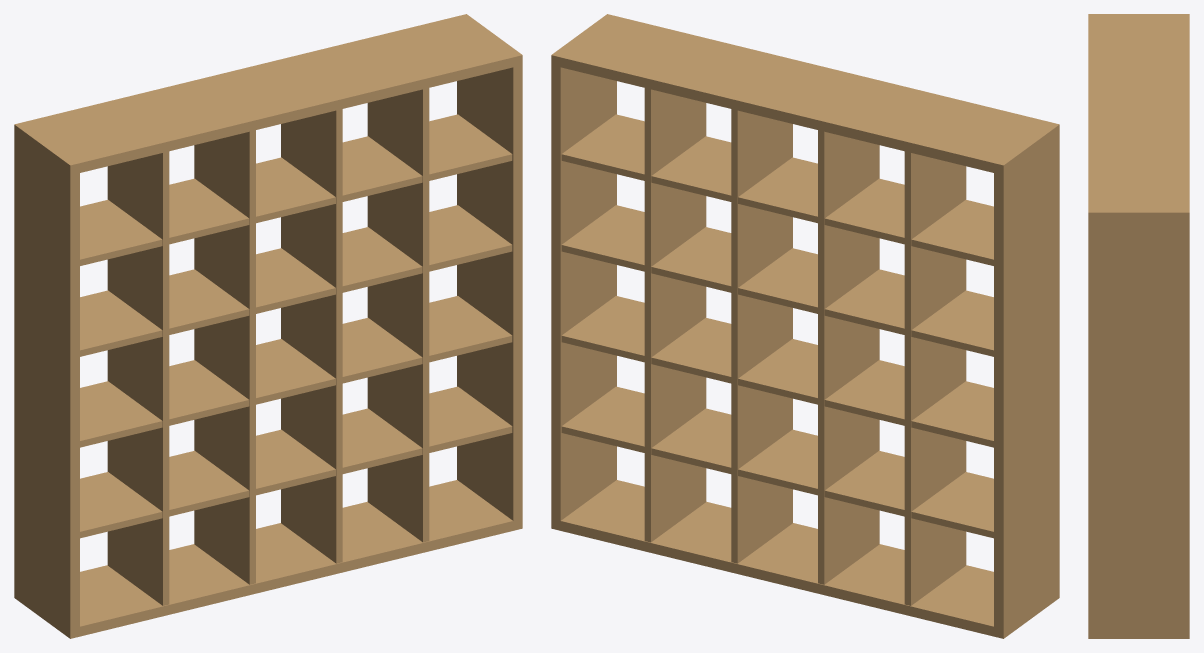
Rendered from stand_book.glb.
3 views of the same model, side by side, from view 1: azimuth 30°, elevation 25°; view 2: azimuth 150°, elevation 25°; view 3: azimuth 270°, elevation 25° (orthographic). The views are drawn at different scales.
Visible parts, largest first — view 1: bookCase2; view 2: bookCase2; view 3: bookCase2.
Boxes of the visible parts, x1,y1,x2,y2 form: bookCase2: [14, 14, 522, 638]; bookCase2: [551, 14, 1059, 638]; bookCase2: [1088, 14, 1189, 638].
Bounding box in the file's own units: 182 × 182 × 39.1.
